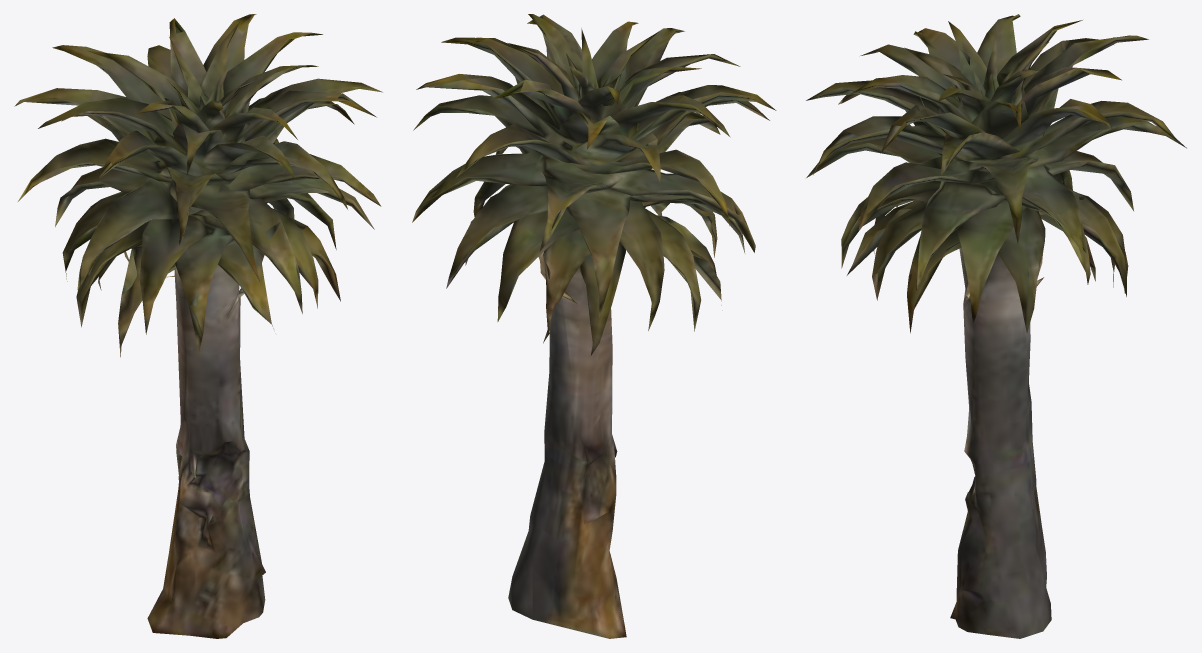
File: tree-quiver-02.lite.31ee3dc6.glb
3 views of the same model, side by side, from view 1: azimuth 30°, elevation 25°; view 2: azimuth 150°, elevation 25°; view 3: azimuth 270°, elevation 25° (orthographic).
Visible parts, largest first — view 1: model; view 2: model; view 3: model.
Part boxes in pixels (<box>): model: <box>14,14,382,638</box>; model: <box>412,14,776,638</box>; model: <box>806,14,1186,638</box>.
Size of the model in its own units: 0.8696 by 1.46 by 0.8752.
Materials: 1 (1 with a texture image).
